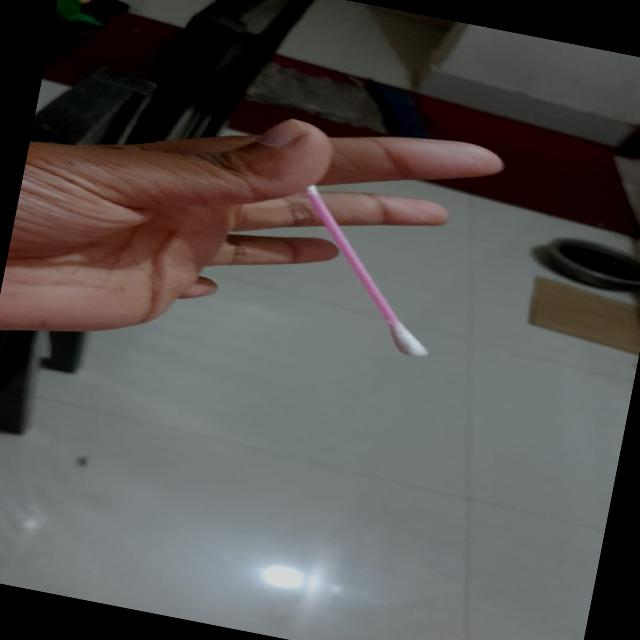Earbud - Non Recyclable: (272, 180, 457, 360)
